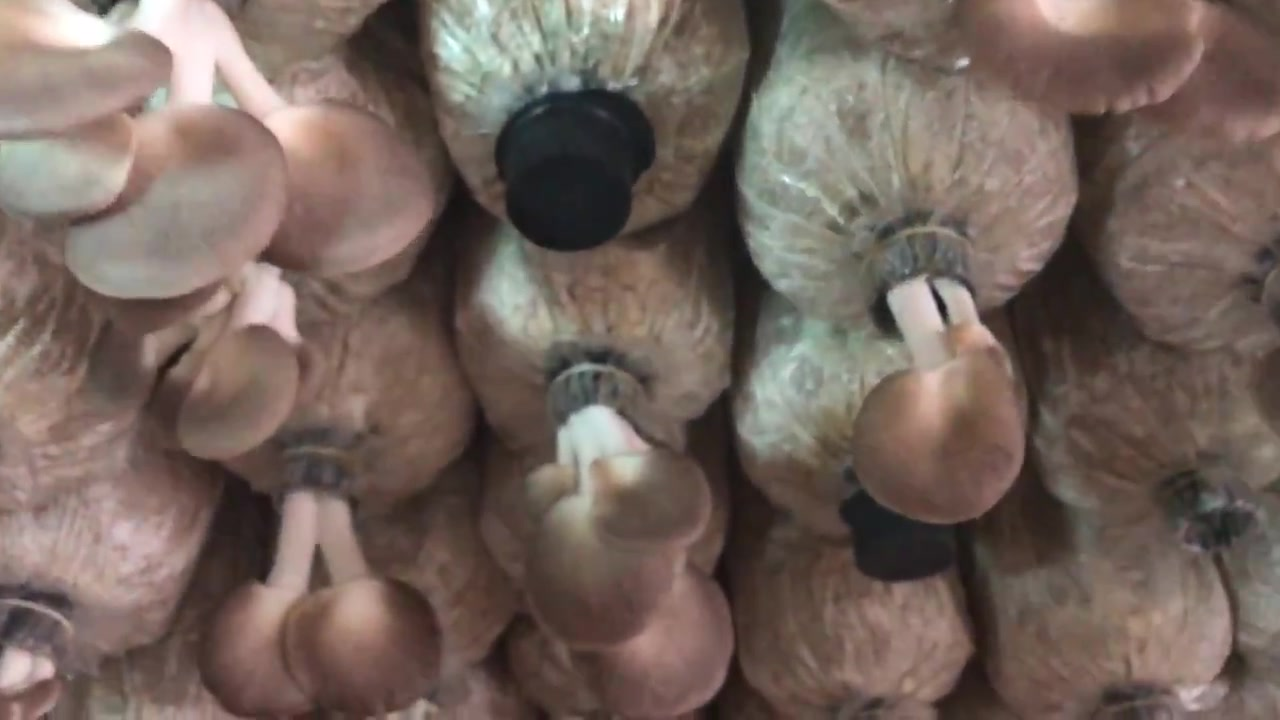nam: (1, 4, 435, 299), (524, 366, 735, 720), (199, 450, 442, 715), (852, 230, 1032, 523), (91, 261, 322, 462), (958, 1, 1279, 140)
